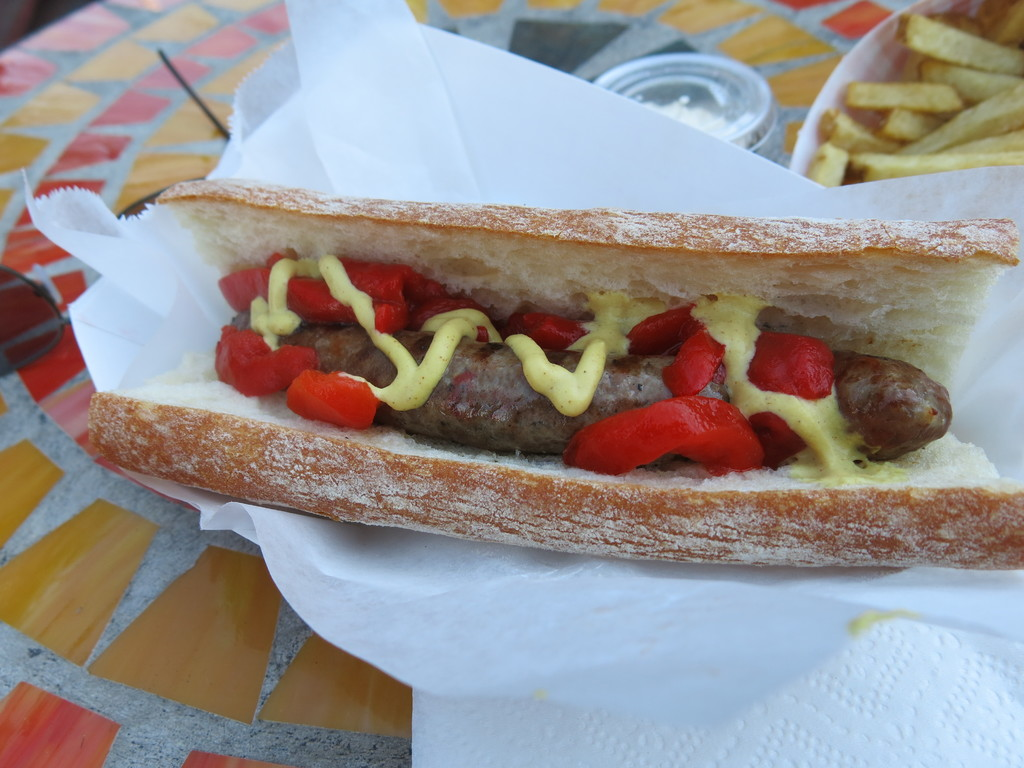hot_dog: (40, 114, 1024, 554)
